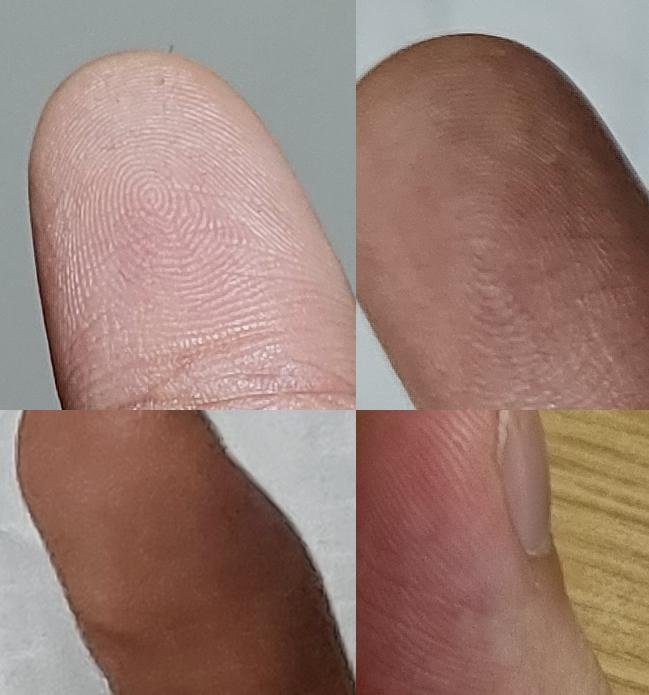Fingerprints: (27, 50, 356, 410), (356, 32, 649, 410), (15, 410, 345, 695), (356, 410, 508, 695)
